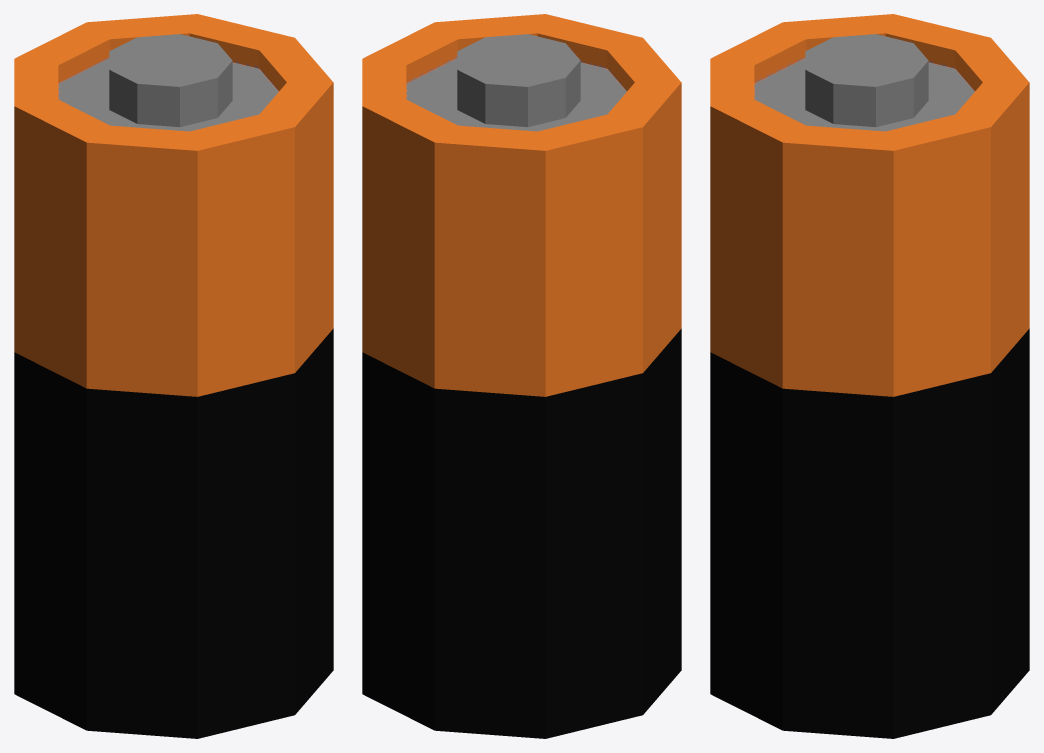
The model's file is BatteryProp.fbx.
3 renders of one model, left to right at view 1: azimuth 30°, elevation 25°; view 2: azimuth 150°, elevation 25°; view 3: azimuth 270°, elevation 25°, orthographic.
Parts seen in each view (by area): view 1: BatteryProp.002; view 2: BatteryProp.002; view 3: BatteryProp.002.
Boxes of the visible parts, bbox=[...] form: BatteryProp.002: bbox=[14, 14, 333, 738]; BatteryProp.002: bbox=[362, 14, 681, 738]; BatteryProp.002: bbox=[710, 14, 1029, 738].
Bounding box in the file's own units: 70.57 × 147 × 69.5.
